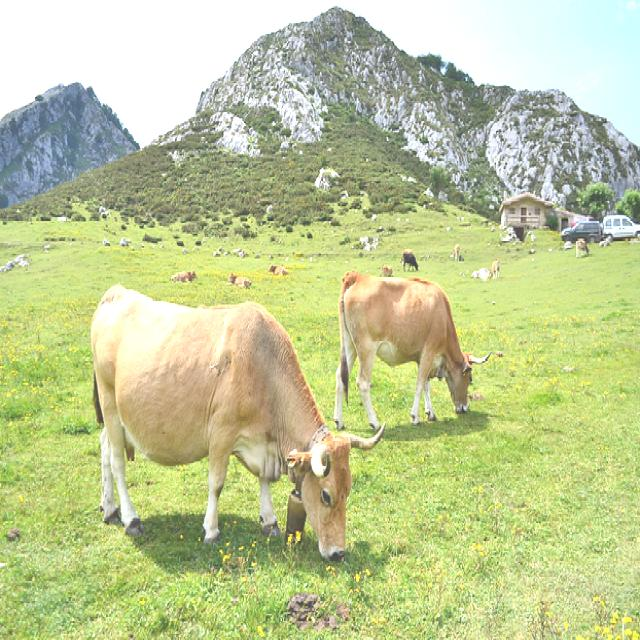Vehicle: (601, 214, 640, 240), (560, 220, 606, 242)
